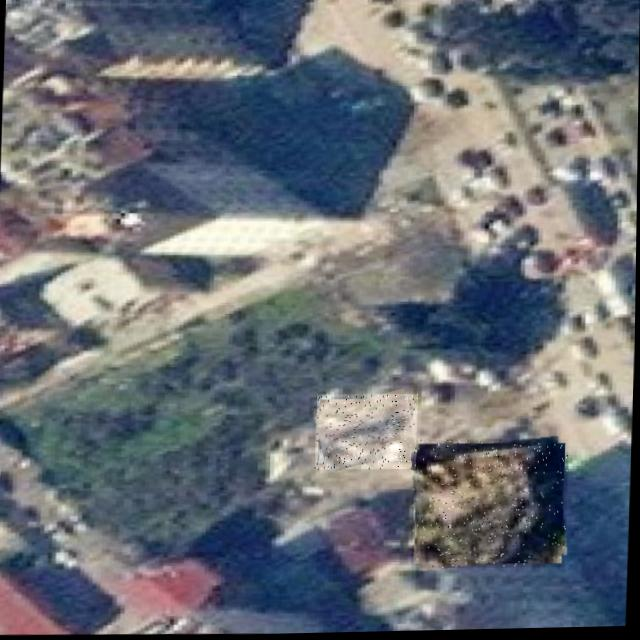Rubble: (412, 437, 569, 571), (316, 393, 419, 471)
